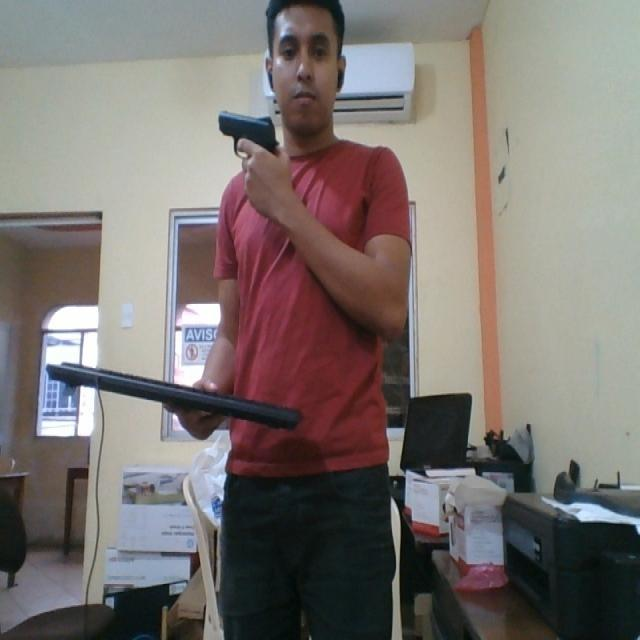weapon: (217, 108, 283, 172)
